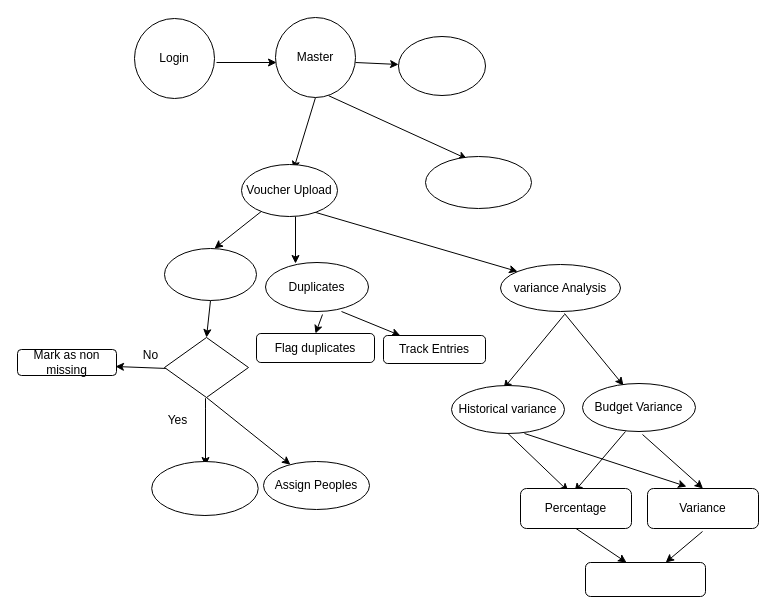
The diagram is 776 pixels wide and 614 high, and some of its shapes have lost their labels. The box of each missing label's shape, as (x1, y1, x2, y2) in pixels:
Add Comments: (151, 460, 258, 516)
Export Data: (584, 562, 706, 596)
Hirearchy Upload: (424, 156, 532, 208)
logout: (398, 36, 486, 96)
Missing: (164, 336, 248, 398)
missing entries: (164, 248, 256, 300)
